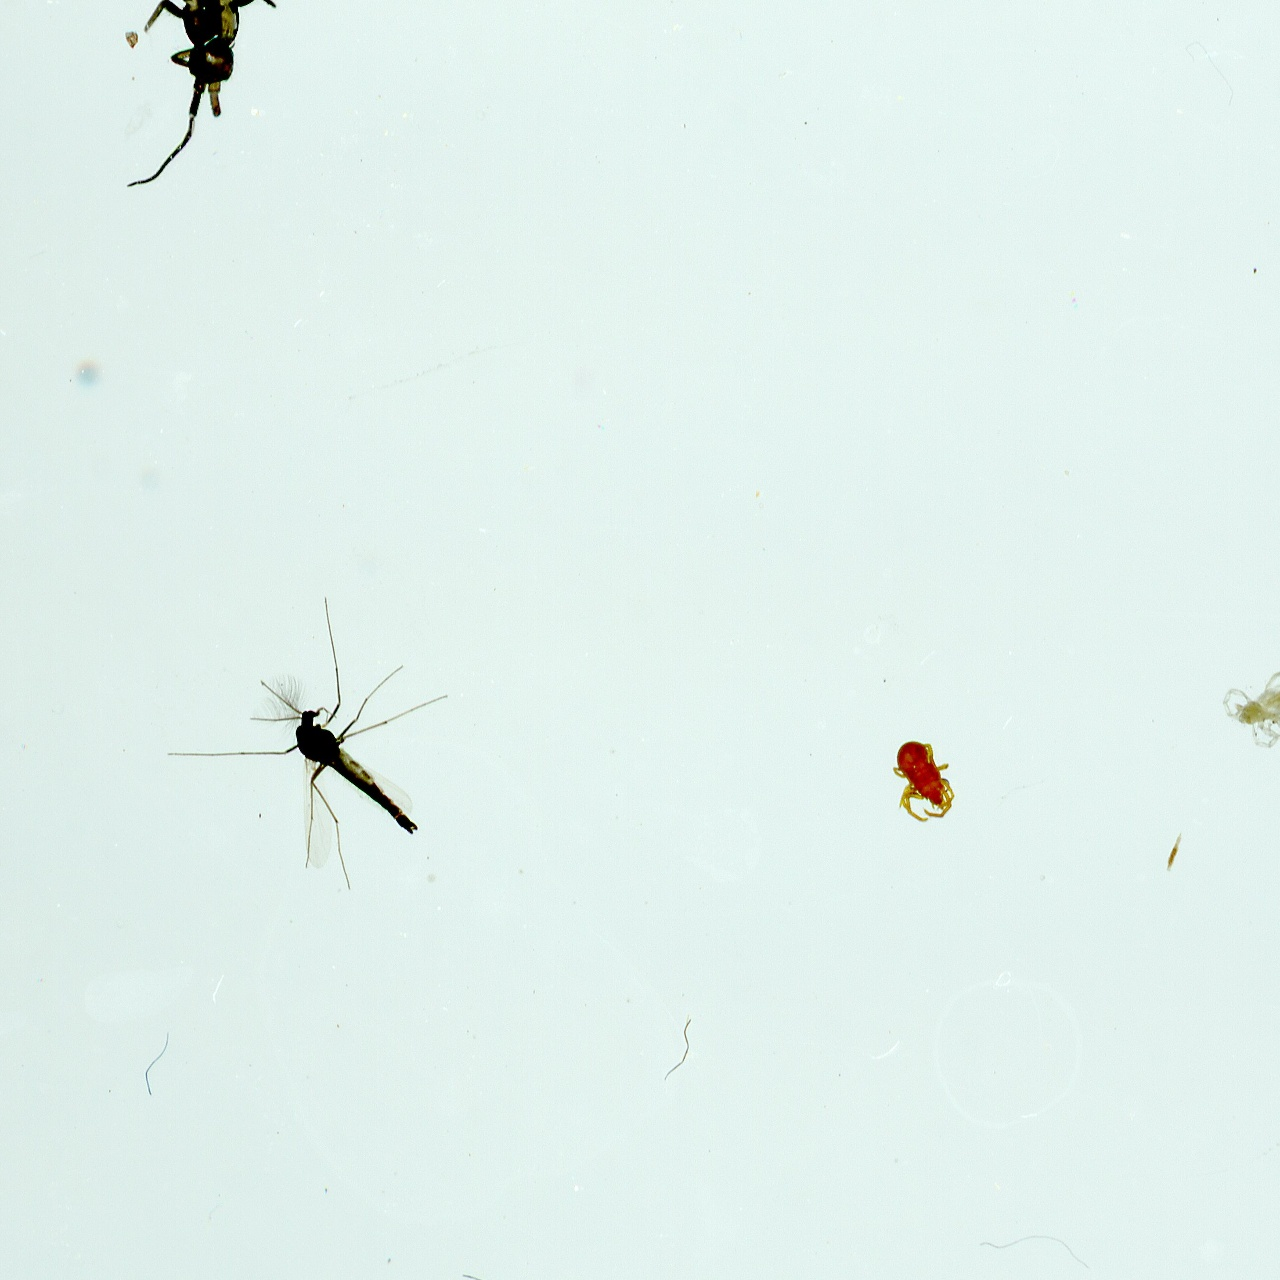arthropod: (155, 565, 509, 918), (115, 0, 284, 193), (887, 737, 959, 824), (1220, 661, 1280, 753)
